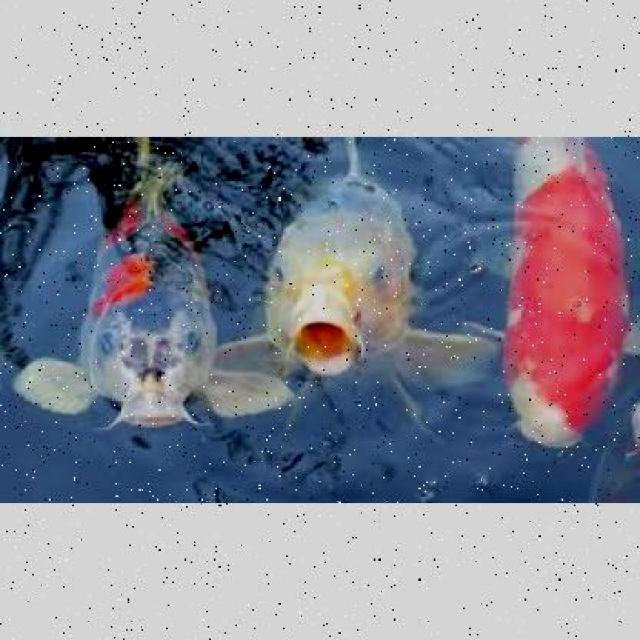ikan-mas: (49, 159, 242, 444), (263, 152, 439, 426), (488, 136, 638, 456)
